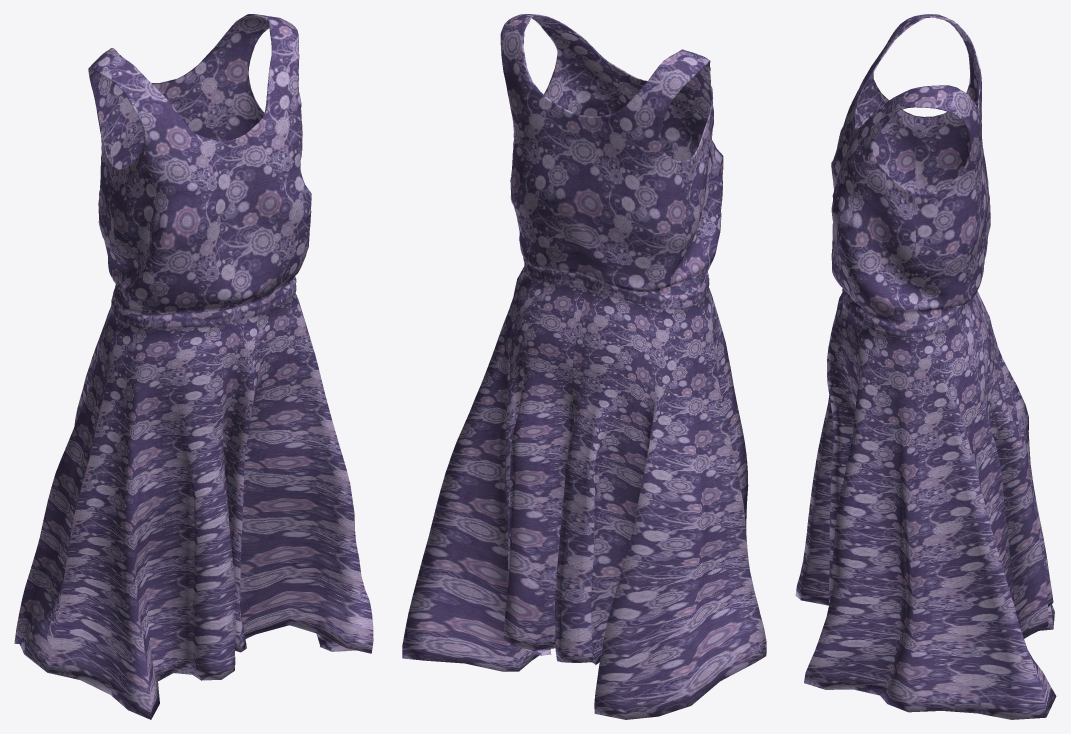
The model's file is dress_full_skirt.gltf.
3 views of the same model, side by side, from view 1: azimuth 30°, elevation 25°; view 2: azimuth 150°, elevation 25°; view 3: azimuth 270°, elevation 25° (orthographic). The views are drawn at different scales.
Parts seen in each view (by area): view 1: dress_full_skirt; view 2: dress_full_skirt; view 3: dress_full_skirt.
Boxes of the visible parts, x1,y1,x2,y2 form: dress_full_skirt: [14, 14, 373, 719]; dress_full_skirt: [402, 14, 766, 719]; dress_full_skirt: [795, 14, 1056, 719].
Bounding box in the file's own units: 0.5695 × 1.08 × 0.4241.
1 material, 1 textured.
